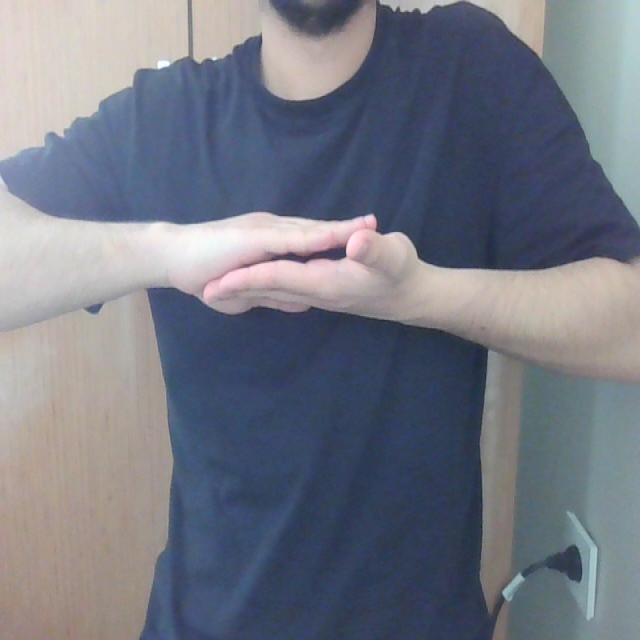Arkadas: (1, 196, 640, 354)
